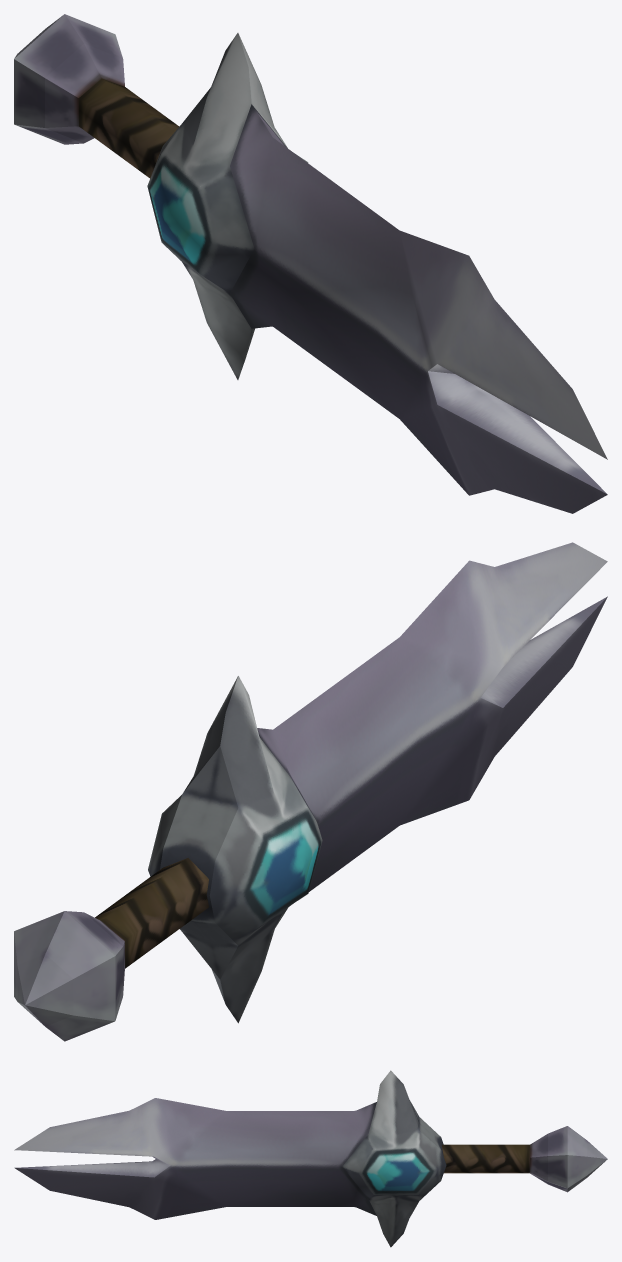
File: sword02.FBX
The picture shows the model from 3 angles, top to bottom: view 1: azimuth 30°, elevation 25°; view 2: azimuth 150°, elevation 25°; view 3: azimuth 270°, elevation 25°; orthographic projection. The views are drawn at different scales.
Visible parts, largest first — view 1: sword02; view 2: sword02; view 3: sword02.
Boxes of the visible parts, x1,y1,x2,y2 form: sword02: (14, 14, 607, 513); sword02: (14, 542, 607, 1041); sword02: (14, 1070, 607, 1247).
Bounding box in the file's own units: 13.06 × 31.84 × 96.56.
Materials: 1 (1 with a texture image).
